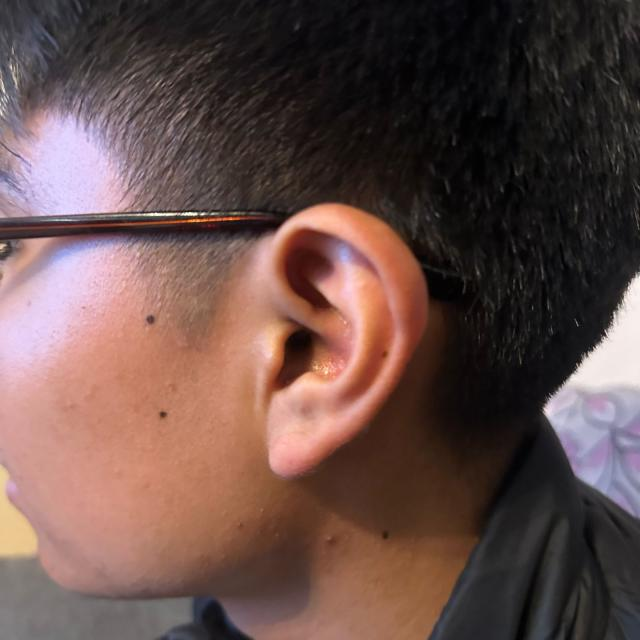ear: (265, 204, 430, 479)
